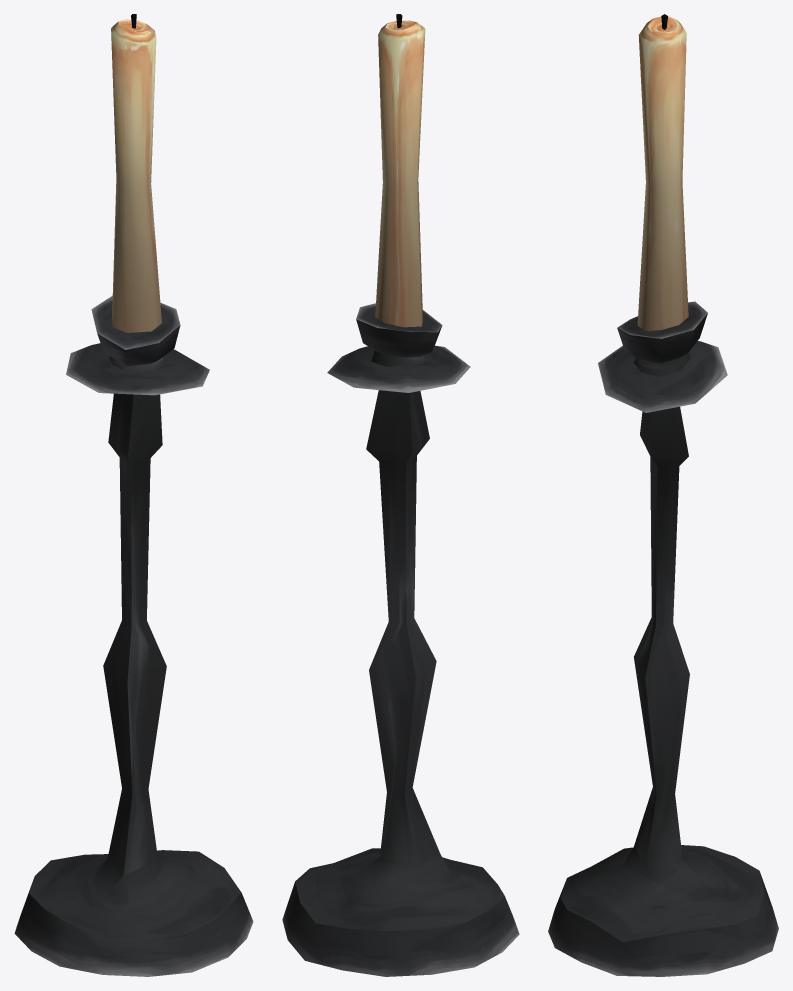
The model's file is SM_PROP_candle_dungeon_04.fbx.
3 views of the same model, side by side, from view 1: azimuth 30°, elevation 25°; view 2: azimuth 150°, elevation 25°; view 3: azimuth 270°, elevation 25° (orthographic).
Parts seen in each view (by area): view 1: SM_PROP_candle_dungeon_04; view 2: SM_PROP_candle_dungeon_04; view 3: SM_PROP_candle_dungeon_04.
Boxes of the visible parts, x1,y1,x2,y2 form: SM_PROP_candle_dungeon_04: [14, 14, 253, 976]; SM_PROP_candle_dungeon_04: [282, 14, 519, 976]; SM_PROP_candle_dungeon_04: [548, 14, 778, 976].
Bounding box in the file's own units: 20.81 × 89.34 × 20.41.
